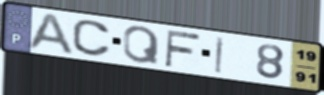8: (256, 43, 287, 81)
A: (24, 12, 77, 57)
C: (70, 18, 114, 58)
F: (163, 28, 203, 68)
I: (213, 35, 227, 75)
Q: (121, 25, 161, 66)
